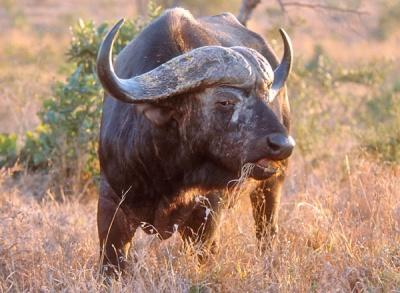buffalo: (97, 7, 294, 274)
